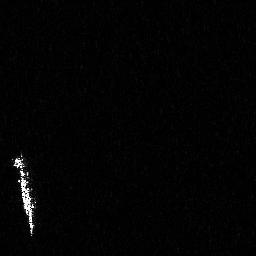ship: (9, 148, 43, 239)
